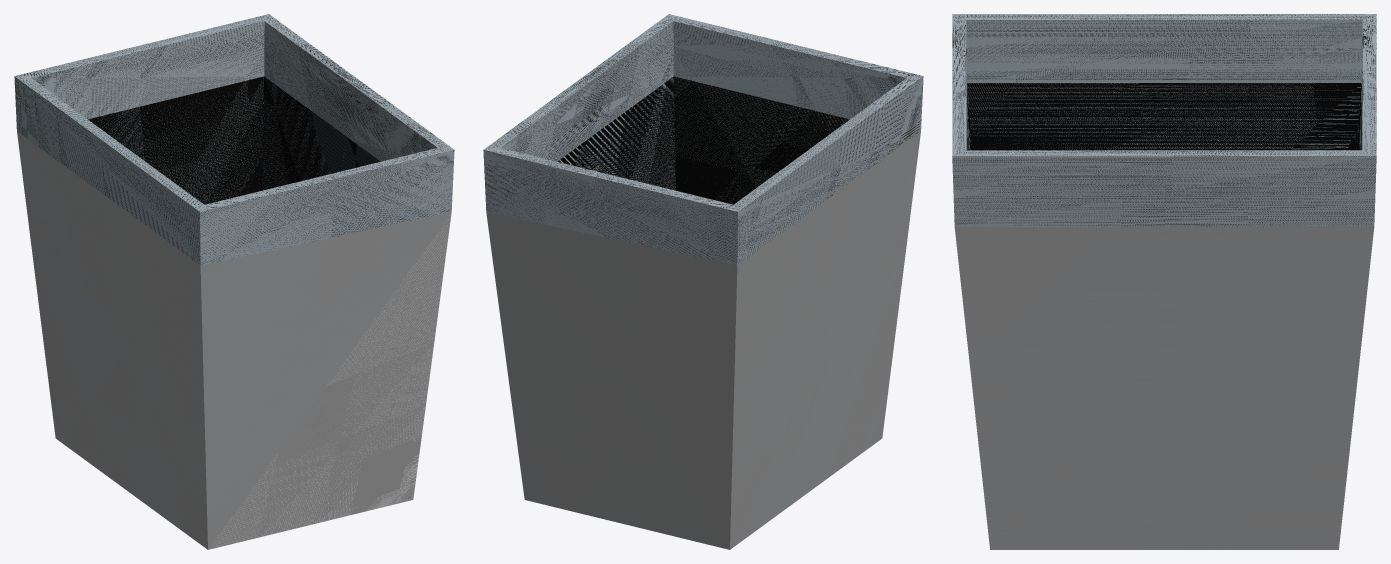
The model's file is TrashBin.obj.
3 views of the same model, side by side, from view 1: azimuth 30°, elevation 25°; view 2: azimuth 150°, elevation 25°; view 3: azimuth 270°, elevation 25° (orthographic). The views are drawn at different scales.
Visible parts, largest first — view 1: Mesh1 Component_2_1 Model; view 2: Mesh1 Component_2_1 Model; view 3: Mesh1 Component_2_1 Model.
Part boxes in pixels (bbox=[...]): Mesh1 Component_2_1 Model: bbox=[14, 14, 454, 549]; Mesh1 Component_2_1 Model: bbox=[483, 14, 923, 549]; Mesh1 Component_2_1 Model: bbox=[952, 14, 1376, 549].
Bounding box in the file's own units: 0.5348 × 0.7149 × 0.6748.
